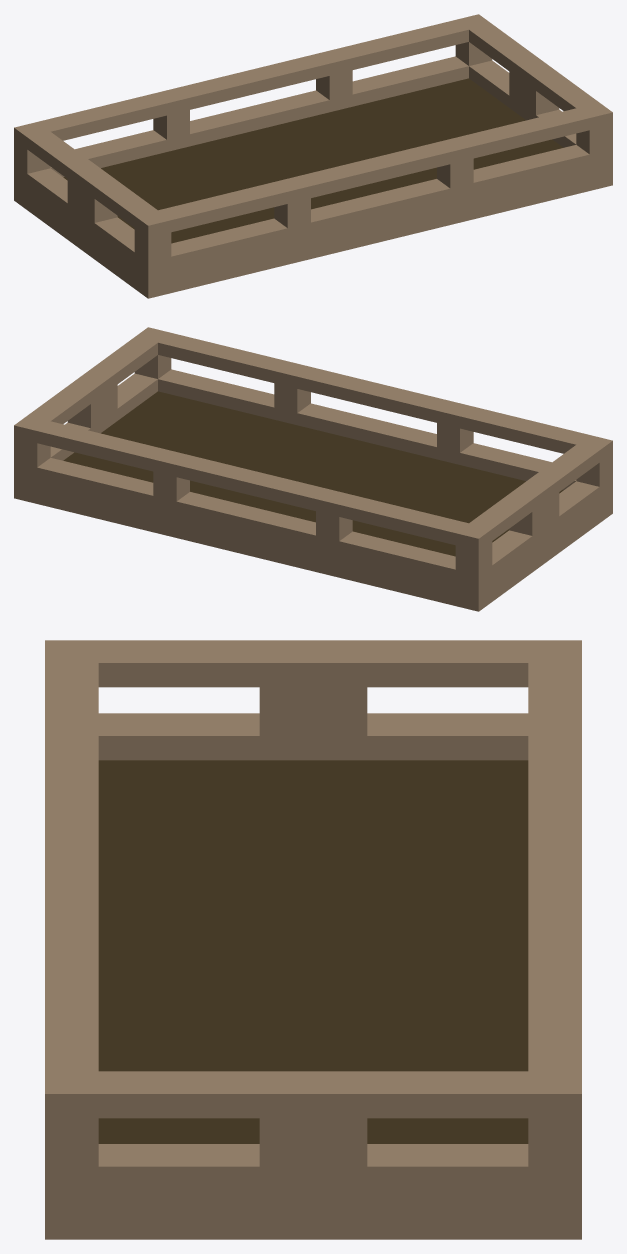
File: fantasy_garden_rect_1.fbx
The picture shows the model from 3 angles, top to bottom: view 1: azimuth 30°, elevation 25°; view 2: azimuth 150°, elevation 25°; view 3: azimuth 270°, elevation 25°; orthographic projection. The views are drawn at different scales.
Parts seen in each view (by area): view 1: Cube.015; view 2: Cube.015; view 3: Cube.015.
Part boxes in pixels (x1,y1,x2,y2): Cube.015: (14, 14, 612, 298); Cube.015: (14, 327, 612, 611); Cube.015: (45, 640, 581, 1239).
Bounding box in the file's own units: 200 × 30 × 100.
